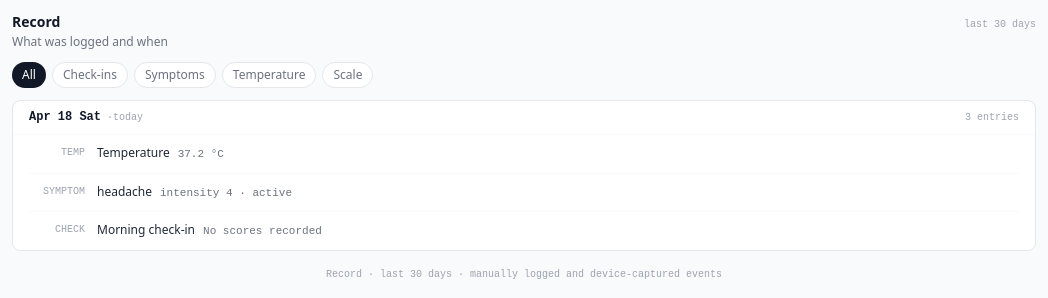
Test: Record regression › switching filters multiple times returns correct entry sets
expect the number of elements with test id "record-entry" is 3: met, box [61,144,224,161]; [29,172,1019,211]; [29,211,1019,250]
# Switch to Symptoms
Step 1. Click the button with test id "record-chip-symptom" → x=175, y=75, box [134,62,216,88]
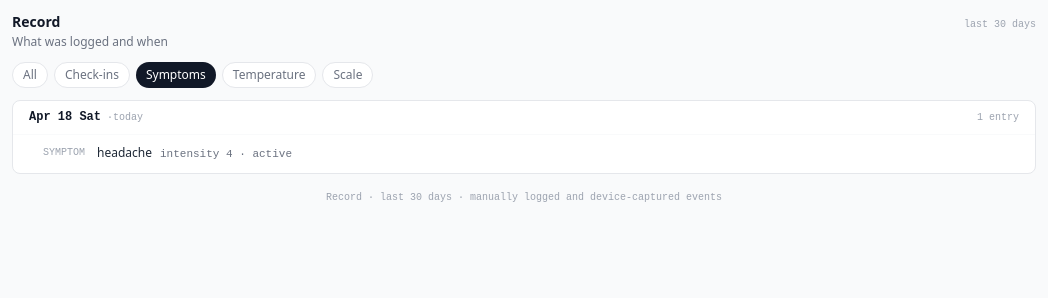
expect the number of elements with test id "record-entry" is 1: met, box [43,144,292,161]
# Switch to Temperature
Step 2. Click the button with test id "record-chip-temperature" → x=269, y=75, box [222,62,316,88]
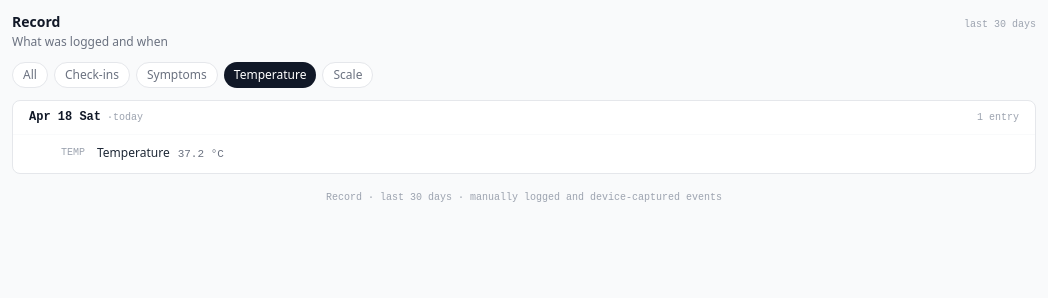
expect the number of elements with test id "record-entry" is 1: met, box [61,144,224,161]
# Back to All — all 3 entries back, correct day group preserved
Step 3. Click the button with test id "record-chip-all" → x=30, y=75, box [12,62,48,88]
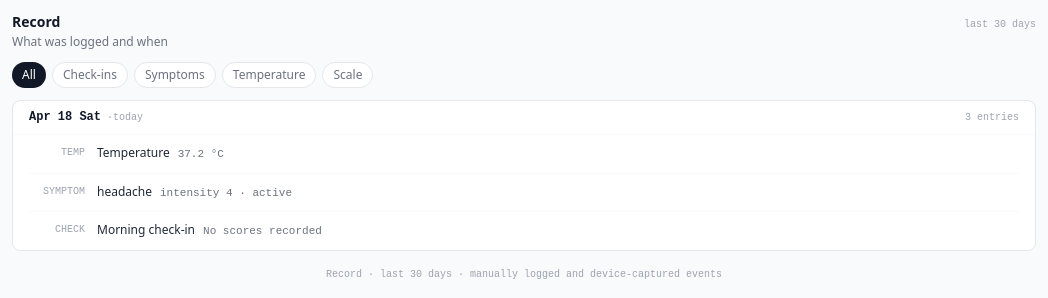
expect the number of elements with test id "record-day-group" is 1: met, box [12,100,1036,250]
expect the number of elements with test id "record-entry" is 3: met, box [61,144,224,161]; [29,172,1019,211]; [29,211,1019,250]
